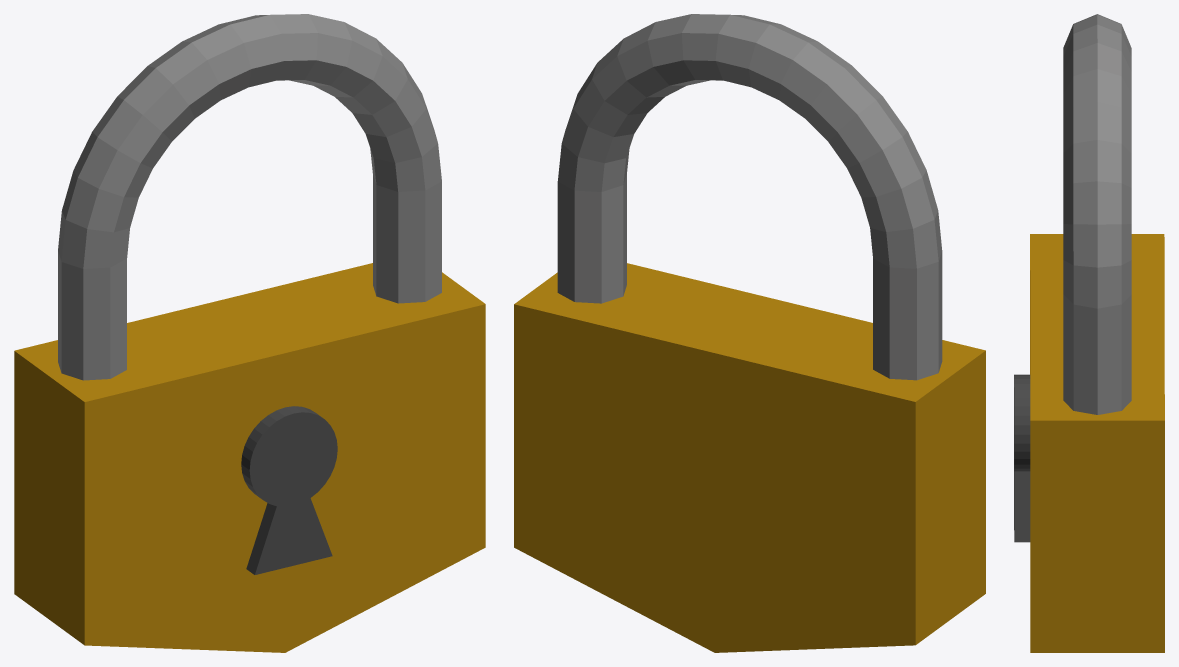
File: Padlock.fbx
The picture shows the model from 3 angles, left to right: view 1: azimuth 30°, elevation 25°; view 2: azimuth 150°, elevation 25°; view 3: azimuth 270°, elevation 25°; orthographic projection. The views are drawn at different scales.
Visible parts, largest first — view 1: Circle.015; view 2: Circle.015; view 3: Circle.015.
Part boxes in pixels (bbox=[...]): Circle.015: bbox=[14, 14, 485, 652]; Circle.015: bbox=[514, 14, 985, 652]; Circle.015: bbox=[1014, 14, 1164, 652].
Size of the model in its own units: 60.87 by 88.03 by 20.75.
